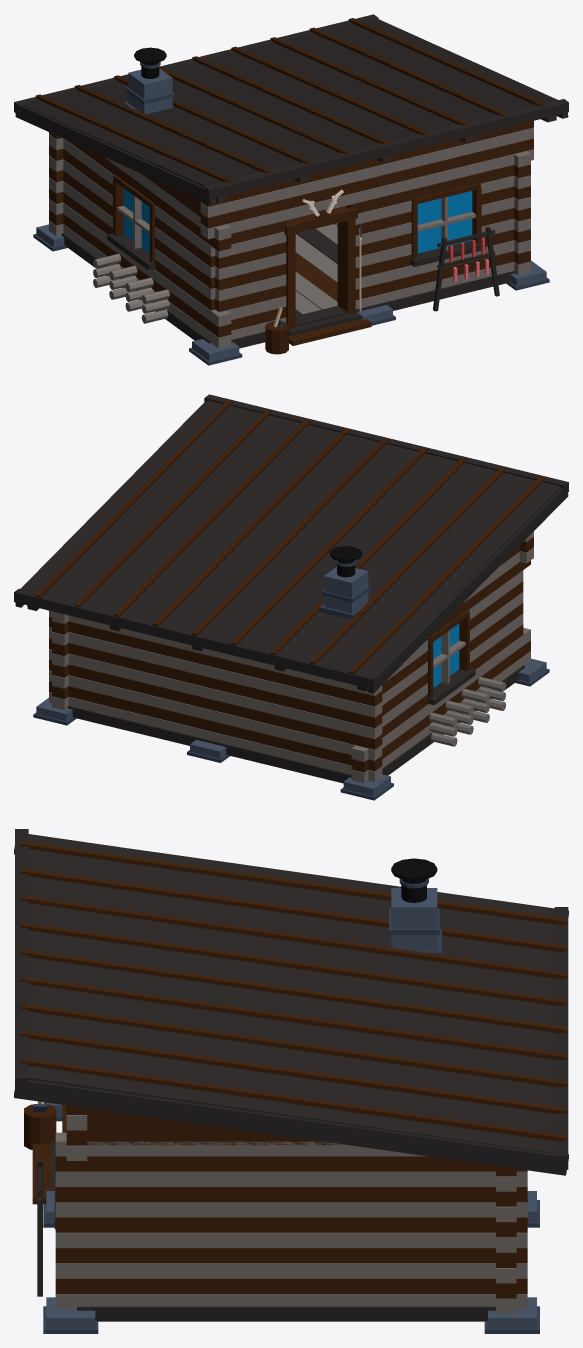
File: hunter_cabin.fbx
3 renders of one model, top to bottom at view 1: azimuth 30°, elevation 25°; view 2: azimuth 150°, elevation 25°; view 3: azimuth 270°, elevation 25°, orthographic. The views are drawn at different scales.
Parts seen in each view (by area): view 1: HunterCabin_SinglePitchRoof, HunterCabin_TimberWalls, HunterCabin_Windows, HunterCabin_ThematicProps, HunterCabin_Foundation, HunterCabin_DoorFrame, HunterCabin_PlankFloor, HunterCabin_Chimney; view 2: HunterCabin_SinglePitchRoof, HunterCabin_TimberWalls, HunterCabin_Foundation, HunterCabin_Windows, HunterCabin_ThematicProps, HunterCabin_Chimney; view 3: HunterCabin_SinglePitchRoof, HunterCabin_TimberWalls, HunterCabin_Foundation, HunterCabin_Chimney, HunterCabin_ThematicProps, HunterCabin_DoorFrame.
Part boxes in pixels (x1,y1,x2,y2): HunterCabin_SinglePitchRoof: (14, 14, 568, 204); HunterCabin_TimberWalls: (49, 120, 533, 348); HunterCabin_Windows: (107, 175, 485, 270); HunterCabin_ThematicProps: (93, 189, 499, 354); HunterCabin_Foundation: (33, 224, 549, 365); HunterCabin_DoorFrame: (284, 206, 371, 345); HunterCabin_PlankFloor: (295, 223, 337, 315); HunterCabin_Chimney: (123, 47, 174, 114); HunterCabin_SinglePitchRoof: (14, 394, 568, 693); HunterCabin_TimberWalls: (49, 531, 533, 783); HunterCabin_Foundation: (33, 658, 549, 800); HunterCabin_Windows: (427, 610, 475, 705); HunterCabin_ThematicProps: (429, 677, 505, 746); HunterCabin_Chimney: (319, 546, 370, 619); HunterCabin_SinglePitchRoof: (14, 829, 568, 1175); HunterCabin_TimberWalls: (55, 1105, 527, 1313); HunterCabin_Foundation: (43, 1102, 539, 1333); HunterCabin_Chimney: (389, 858, 441, 954); HunterCabin_ThematicProps: (24, 1101, 56, 1296); HunterCabin_DoorFrame: (32, 1141, 55, 1204).
Size of the model in its own units: 19.2 by 10.08 by 18.1.
